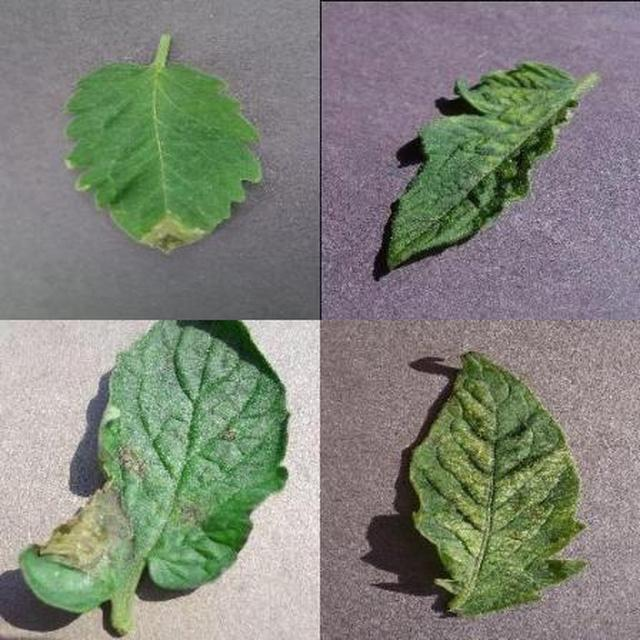Late Blight Leaf: (219, 227, 640, 640)
